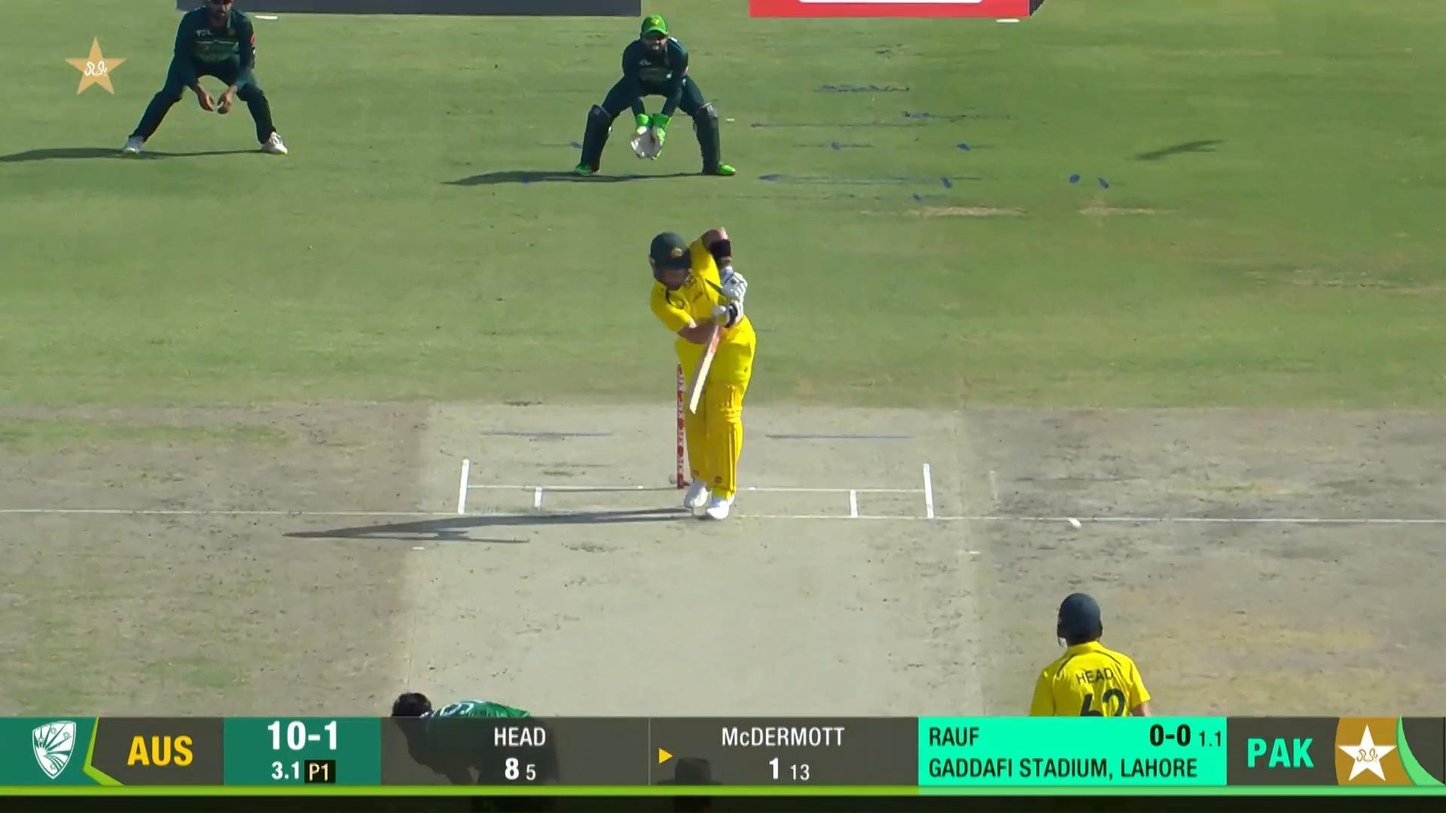BM 1: (649, 227, 757, 520)
BO: (389, 691, 560, 813)
